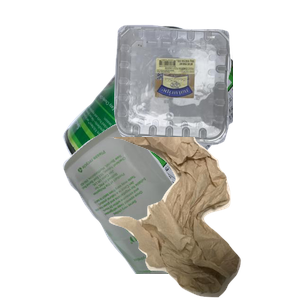glass: (60, 120, 300, 300)
metal: (60, 23, 300, 203)
plastic: (112, 22, 300, 160)
trash: (103, 137, 300, 300)
